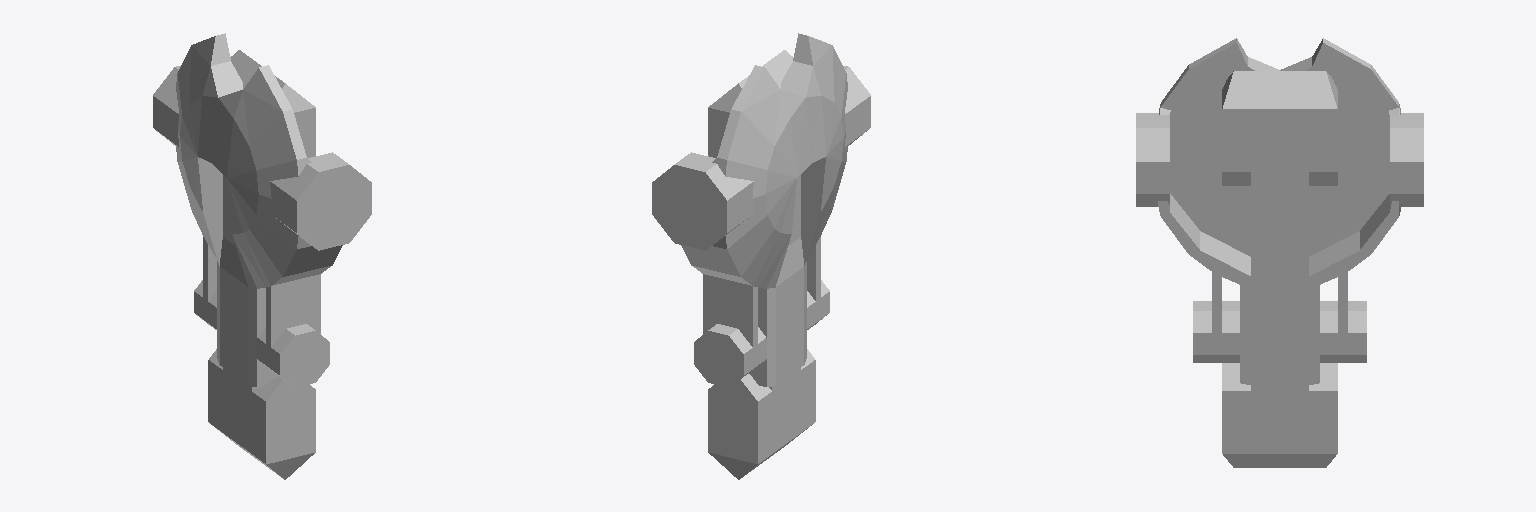
The model's file is jaller_uarm.obj.
3 views of the same model, side by side, from view 1: azimuth 30°, elevation 25°; view 2: azimuth 150°, elevation 25°; view 3: azimuth 270°, elevation 25° (orthographic).
Parts seen in each view (by area): view 1: jaller.bh_jaller_reference.smd.mesh_0.004_jaller.bh_jaller_refer; view 2: jaller.bh_jaller_reference.smd.mesh_0.004_jaller.bh_jaller_refer; view 3: jaller.bh_jaller_reference.smd.mesh_0.004_jaller.bh_jaller_refer.
Boxes of the visible parts, <box> form: jaller.bh_jaller_reference.smd.mesh_0.004_jaller.bh_jaller_refer: <box>153,33,371,479</box>; jaller.bh_jaller_reference.smd.mesh_0.004_jaller.bh_jaller_refer: <box>652,33,870,479</box>; jaller.bh_jaller_reference.smd.mesh_0.004_jaller.bh_jaller_refer: <box>1136,38,1423,467</box>.
Size of the model in its own units: 4.43 by 20.24 by 12.63.